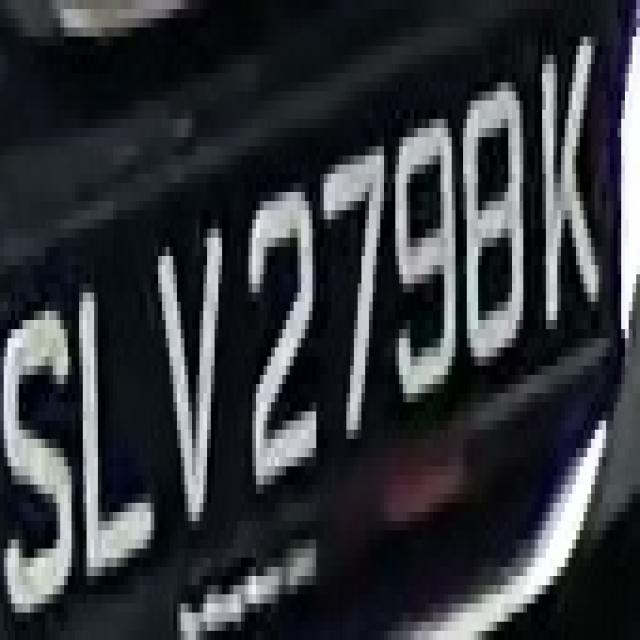2: (237, 174, 320, 494)
7: (312, 137, 396, 466)
8: (455, 82, 531, 384)
9: (384, 91, 463, 412)
K: (523, 27, 606, 366)
L: (68, 238, 154, 576)
S: (8, 274, 76, 613)
V: (143, 210, 226, 540)
